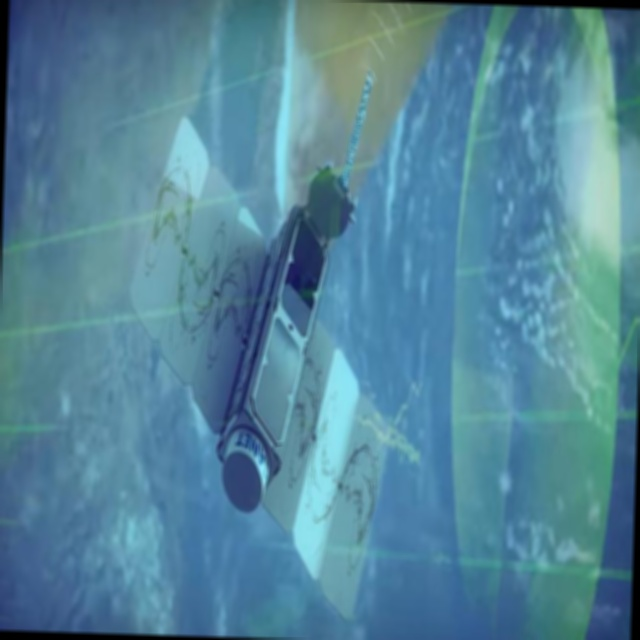medium_debris: (115, 0, 431, 631)
